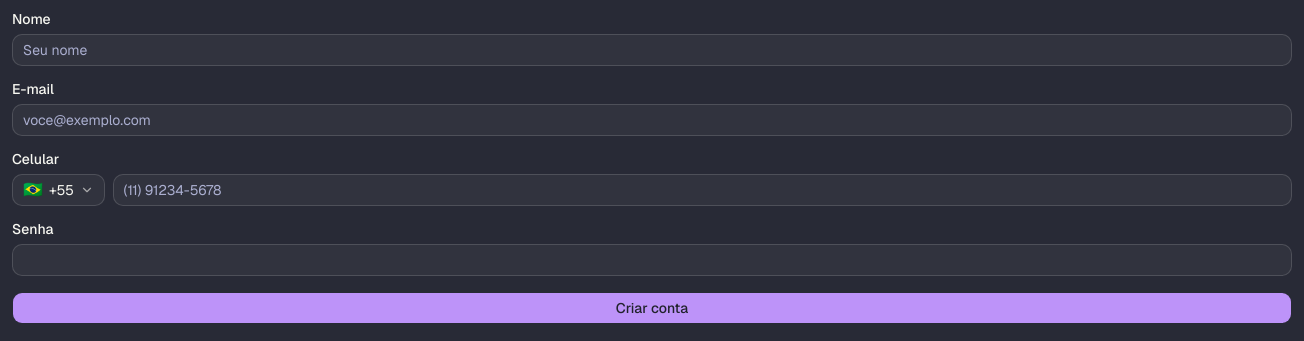
Scenario: estado de sucesso dos formulários de auth › cadastro: confirmação + ação de ir para o login
Type "Fulano" into the field labelled "Nome" at point(652, 50), box [12,34,1292,66]
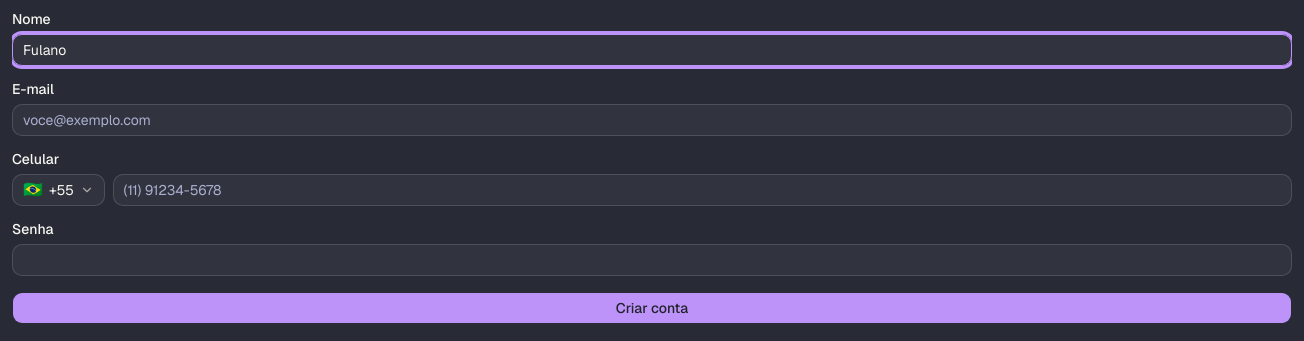
Click the button "Criar conta" at point(652, 308), box [12,292,1292,324]
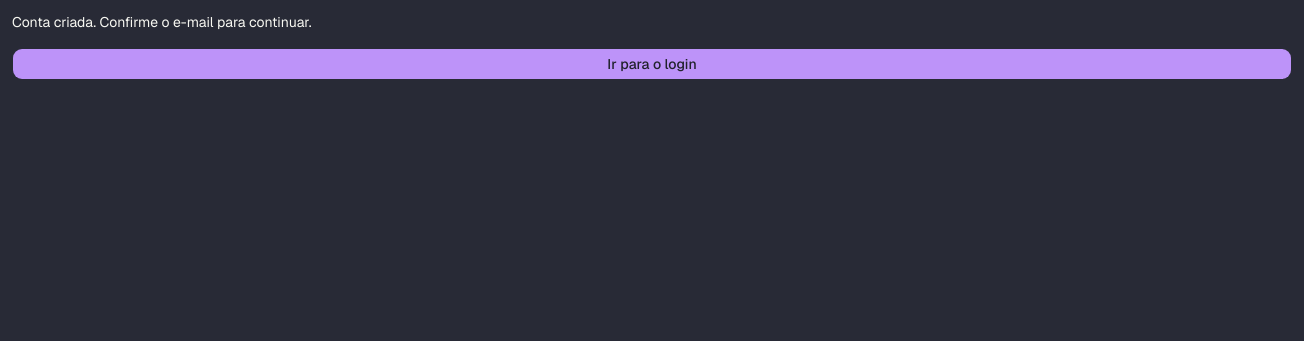
Result: the message reads "Conta criada. Confirme o e-mail para continuar." at [12,13,312,31]
Result: the label labelled "Nome" is gone
